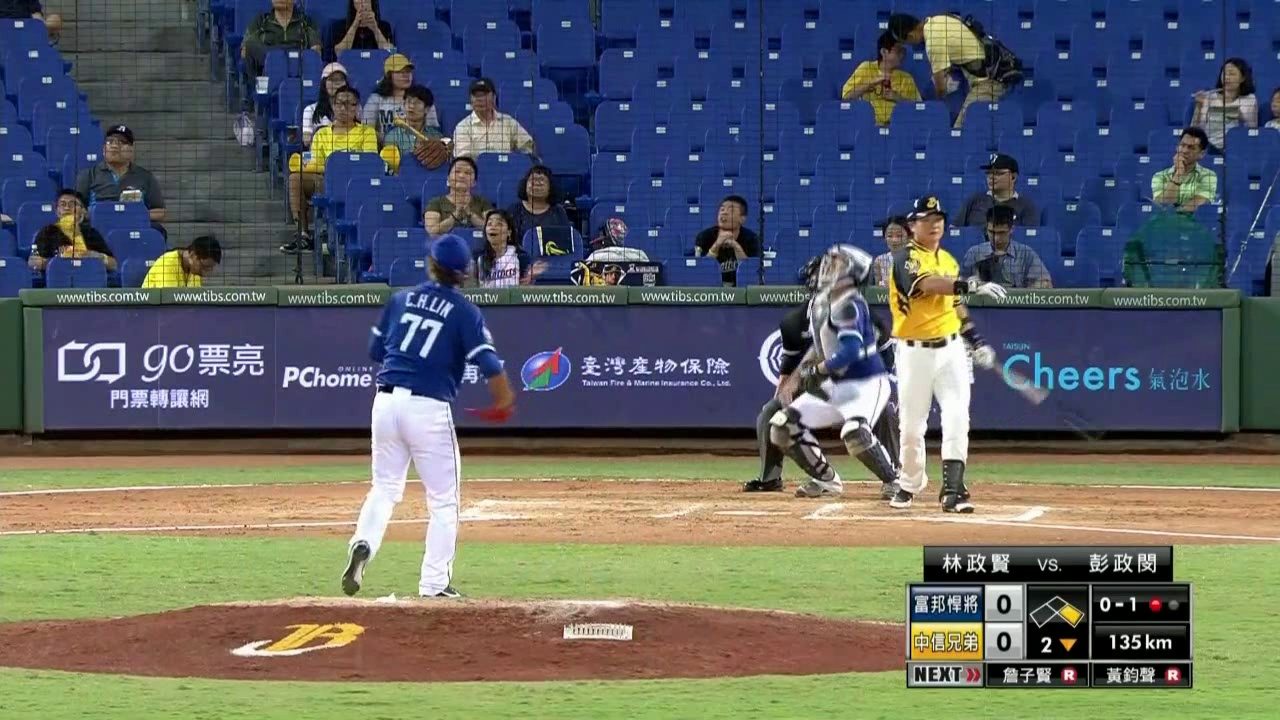base: (1026, 593, 1091, 631)
bat: (975, 351, 1092, 439)
out: (1144, 589, 1185, 619)
score1: (986, 586, 1019, 619)
score2: (987, 627, 1019, 656)
session: (1026, 628, 1088, 662)
speed: (1097, 628, 1185, 659)
strikeball: (1094, 590, 1139, 621)
